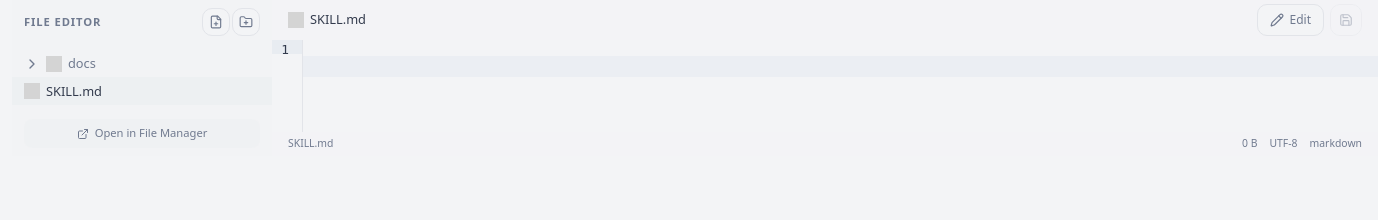
Test: SkillFileEditor › expands nested synthetic folders to reveal files inside them
This screenshot has width=1378, height=220.
Expected: the element with class "skill-file-editor__tree-list" is shown, [12,44,272,111]
Expected: the text "guide.md" is not shown
What coordinates should you click on to do the following:
click the button "docs"
I would click on:
 (32, 64)
Its box is [12,50,272,77].
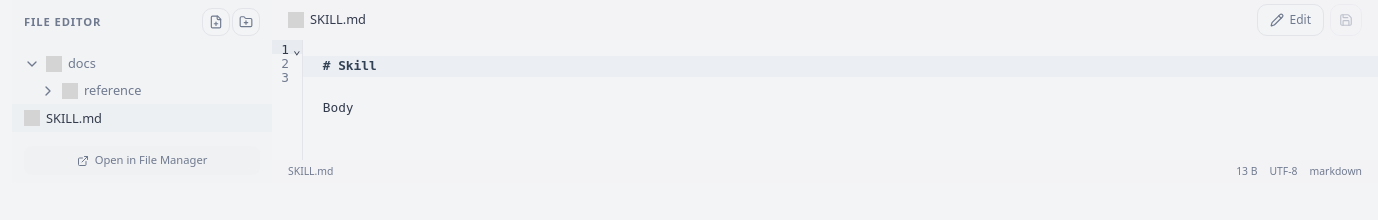
What coordinates should you click on to do the following:
click the button "reference"
I would click on:
 (142, 91)
Its box is [12,77,272,104].
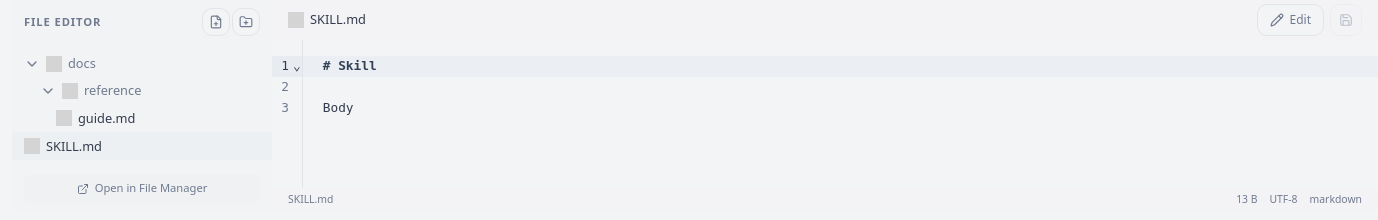
Expected: the text "guide.md" is shown, [78,109,135,127]
Expected: the button "reference" is expanded, [12,77,272,104]
